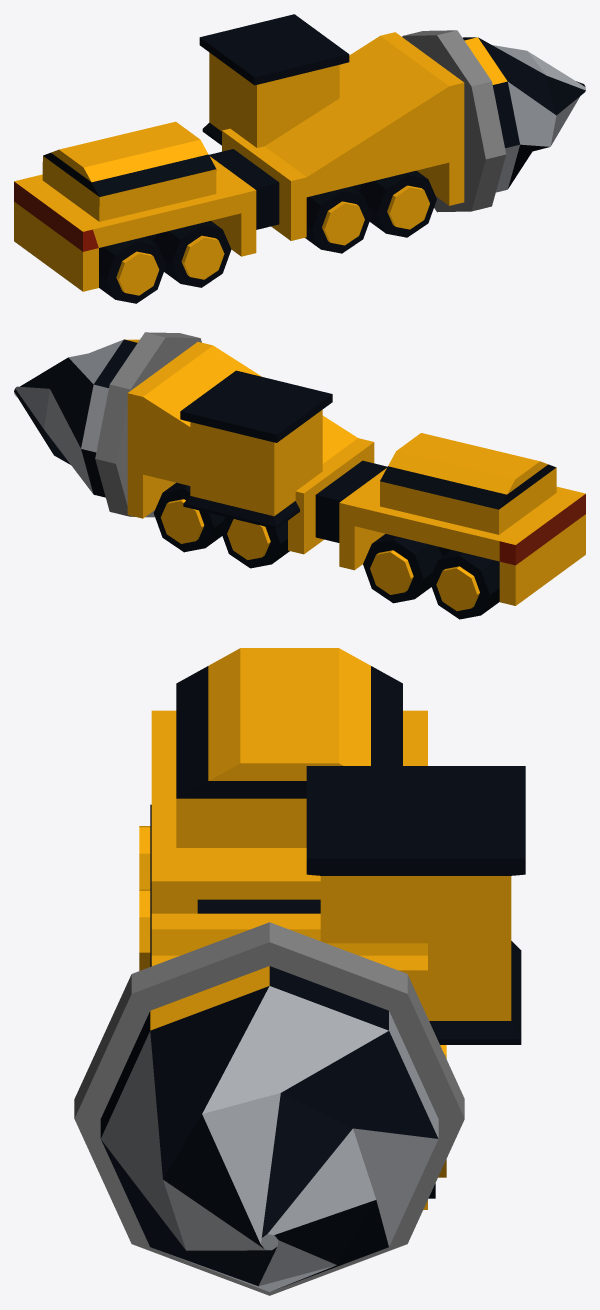
The model's file is Machine_2.fbx.
3 views of the same model, one above another, from view 1: azimuth 30°, elevation 25°; view 2: azimuth 150°, elevation 25°; view 3: azimuth 270°, elevation 25° (orthographic). The views are drawn at different scales.
Visible parts, largest first — view 1: Cube.003, Cylinder.008, Cylinder.004, Cylinder.006, Cylinder.007, Cylinder.005; view 2: Cube.003, Cylinder.008, Cylinder.006, Cylinder.007, Cylinder.004, Cylinder.005; view 3: Cylinder.008, Cube.003, Cylinder.006, Cylinder.007.
Boxes of the visible parts, x1,y1,x2,y2 form: Cube.003: (14, 14, 464, 291); Cylinder.008: (402, 30, 585, 212); Cylinder.004: (351, 170, 436, 237); Cylinder.006: (146, 221, 231, 287); Cylinder.007: (99, 236, 166, 303); Cylinder.005: (305, 186, 371, 253); Cube.003: (127, 342, 585, 605); Cylinder.008: (14, 332, 201, 517); Cylinder.006: (363, 534, 451, 603); Cylinder.007: (429, 550, 499, 619); Cylinder.004: (153, 482, 224, 552); Cylinder.005: (220, 517, 289, 568); Cylinder.008: (74, 922, 464, 1295); Cube.003: (151, 648, 525, 1209); Cylinder.006: (139, 868, 151, 970); Cylinder.007: (139, 804, 151, 889).
Bounding box in the file's own units: 483 × 154 × 178.
